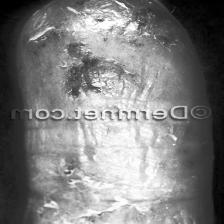Non-Cancerous Skin Condition: (29, 0, 191, 100), (28, 168, 164, 224)
